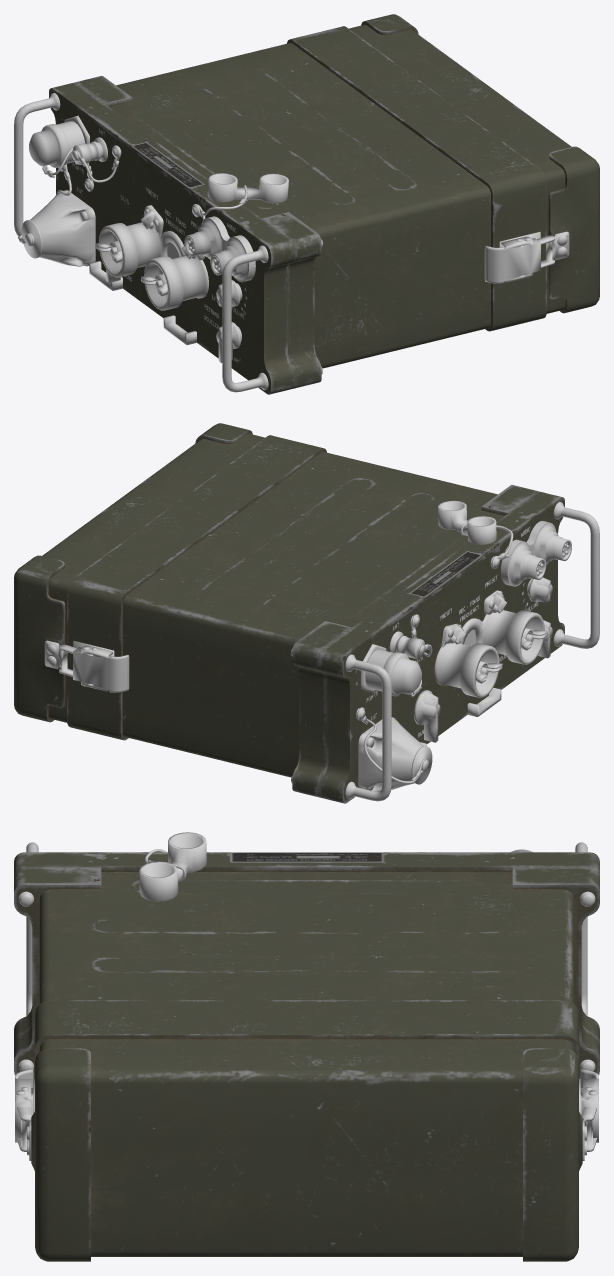
3 renders of one model, top to bottom at view 1: azimuth 30°, elevation 25°; view 2: azimuth 150°, elevation 25°; view 3: azimuth 270°, elevation 25°, orthographic. The views are drawn at different scales.
Parts seen in each view (by area): view 1: radioMain_low_1, radioMain_low_4, radioMain_low_5, radioMain_low_8, clamp_low, radioMain_low_11, audioCover_low, radioMain_low_2, radioMain_low_3, radioMain_low_7; view 2: radioMain_low_1, radioMain_low_4, radioMain_low_8, radioMain_low_5, clamp_low, radioMain_low_11, radioMain_low_2, audioCover_low, knob_band_low, radioMain_low_7, knob_volume_low, radioMain_low_3; view 3: radioMain_low_1, clamp_low, audioCover_low, radioMain_low_8, radioMain_low_9.
Part boxes in pixels (x1,y1,x2,y2): radioMain_low_1: (49,14,599,394); radioMain_low_4: (98,221,208,310); radioMain_low_5: (21,190,95,266); radioMain_low_8: (14,93,268,392); clamp_low: (484,231,569,283); radioMain_low_11: (184,216,255,282); audioCover_low: (207,173,288,203); radioMain_low_2: (29,121,85,167); radioMain_low_3: (89,261,196,345); radioMain_low_7: (72,137,107,164); radioMain_low_1: (14,423,564,803); radioMain_low_4: (434,610,544,697); radioMain_low_8: (345,502,599,801); radioMain_low_5: (358,717,432,791); clamp_low: (44,640,129,692); radioMain_low_11: (501,521,571,586); radioMain_low_2: (365,649,421,696); audioCover_low: (438,500,496,544); knob_band_low: (413,690,440,742); radioMain_low_7: (389,631,425,659); knob_volume_low: (527,577,552,602); radioMain_low_3: (420,687,501,746); radioMain_low_1: (14,852,599,1261); clamp_low: (15,1069,598,1160); audioCover_low: (139,832,206,901); radioMain_low_8: (26,842,587,1015); radioMain_low_9: (18,891,595,1071).
Size of the model in its own units: 58.11 by 23.49 by 56.99.
